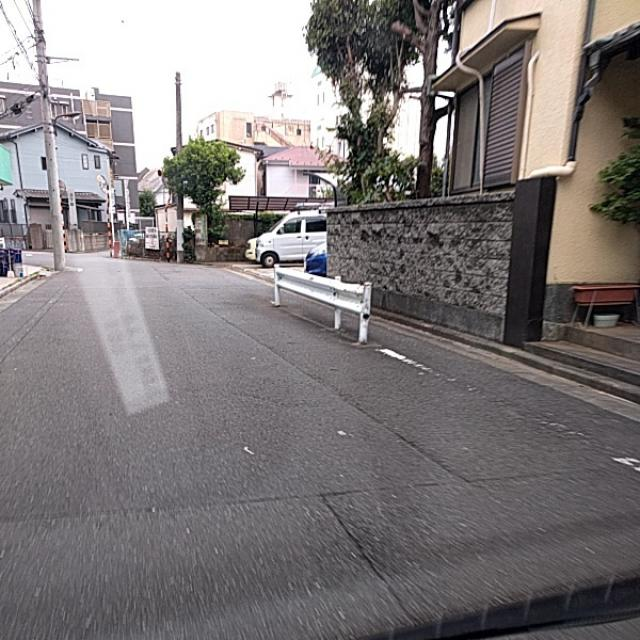pothole: (296, 456, 392, 552)
